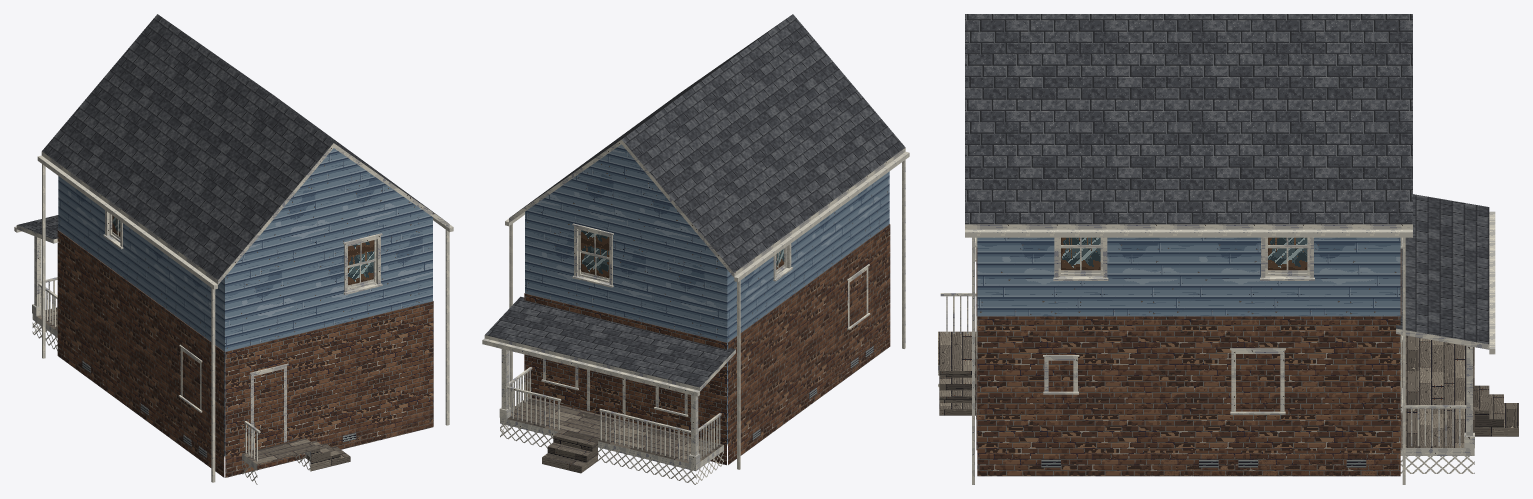
File: RES_House_MillWorker.obj
3 renders of one model, left to right at view 1: azimuth 30°, elevation 25°; view 2: azimuth 150°, elevation 25°; view 3: azimuth 270°, elevation 25°, orthographic. The views are drawn at different scales.
Parts seen in each view (by area): view 1: RES_House_MillWorker_Exterior_M_Arch_BrickWeatheredBrown, RES_House_MillWorker_Exterior_M_Arch_RoofShinglesDarkGray, RES_House_MillWorker_Exterior_M_Arch_SidingBlue, RES_House_MillWorker_Exterior_M_Arch_TrimPainted, RES_House_MillWorker_Exterior_M_Town_PaintWhite, RES_House_MillWorker_Exterior_M_Arch_WoodPlanksAged, RES_House_MillWorker_Exterior_M_Arch_WindowGlassDirty; view 2: RES_House_MillWorker_Exterior_M_Arch_RoofShinglesDarkGray, RES_House_MillWorker_Exterior_M_Arch_SidingBlue, RES_House_MillWorker_Exterior_M_Arch_BrickWeatheredBrown, RES_House_MillWorker_Exterior_M_Arch_TrimPainted, RES_House_MillWorker_Exterior_M_Arch_WoodPlanksAged, RES_House_MillWorker_Exterior_M_Town_PaintWhite, RES_House_MillWorker_Exterior_M_Arch_WindowGlassDirty, RES_House_MillWorker_Exterior_M_Res_Lattice; view 3: RES_House_MillWorker_Exterior_M_Arch_RoofShinglesDarkGray, RES_House_MillWorker_Exterior_M_Arch_BrickWeatheredBrown, RES_House_MillWorker_Exterior_M_Arch_SidingBlue, RES_House_MillWorker_Exterior_M_Arch_WoodPlanksAged, RES_House_MillWorker_Exterior_M_Arch_TrimPainted, RES_House_MillWorker_Exterior_M_Town_PaintWhite, RES_House_MillWorker_Exterior_M_Arch_WindowGlassDirty, RES_House_MillWorker_Exterior_M_Town_VentGrille, RES_House_MillWorker_Exterior_M_Res_Lattice.
Part boxes in pixels (box(x1,y1,x2,y2)): RES_House_MillWorker_Exterior_M_Arch_BrickWeatheredBrown: box(57, 230, 433, 477); RES_House_MillWorker_Exterior_M_Arch_RoofShinglesDarkGray: box(17, 14, 443, 279); RES_House_MillWorker_Exterior_M_Arch_SidingBlue: box(58, 148, 432, 456); RES_House_MillWorker_Exterior_M_Arch_TrimPainted: box(16, 143, 449, 470); RES_House_MillWorker_Exterior_M_Town_PaintWhite: box(14, 155, 453, 482); RES_House_MillWorker_Exterior_M_Arch_WoodPlanksAged: box(37, 307, 350, 471); RES_House_MillWorker_Exterior_M_Arch_WindowGlassDirty: box(112, 215, 374, 285); RES_House_MillWorker_Exterior_M_Arch_RoofShinglesDarkGray: box(485, 14, 905, 387); RES_House_MillWorker_Exterior_M_Arch_SidingBlue: box(525, 144, 889, 444); RES_House_MillWorker_Exterior_M_Arch_BrickWeatheredBrown: box(524, 224, 890, 465); RES_House_MillWorker_Exterior_M_Arch_TrimPainted: box(484, 139, 905, 471); RES_House_MillWorker_Exterior_M_Arch_WoodPlanksAged: box(507, 397, 723, 473); RES_House_MillWorker_Exterior_M_Town_PaintWhite: box(482, 151, 909, 469); RES_House_MillWorker_Exterior_M_Arch_WindowGlassDirty: box(580, 230, 783, 278); RES_House_MillWorker_Exterior_M_Res_Lattice: box(500, 424, 723, 484); RES_House_MillWorker_Exterior_M_Arch_RoofShinglesDarkGray: box(965, 14, 1489, 344); RES_House_MillWorker_Exterior_M_Arch_BrickWeatheredBrown: box(976, 247, 1401, 476); RES_House_MillWorker_Exterior_M_Arch_SidingBlue: box(977, 237, 1400, 316); RES_House_MillWorker_Exterior_M_Arch_WoodPlanksAged: box(938, 331, 1518, 447); RES_House_MillWorker_Exterior_M_Arch_TrimPainted: box(938, 224, 1489, 455); RES_House_MillWorker_Exterior_M_Town_PaintWhite: box(965, 211, 1495, 484); RES_House_MillWorker_Exterior_M_Arch_WindowGlassDirty: box(1061, 237, 1307, 270); RES_House_MillWorker_Exterior_M_Town_VentGrille: box(976, 403, 1366, 467); RES_House_MillWorker_Exterior_M_Res_Lattice: box(938, 373, 1474, 473).
Size of the model in its own units: 7.14 by 8.91 by 11.8.
Materials: 22 (21 with a texture image).
